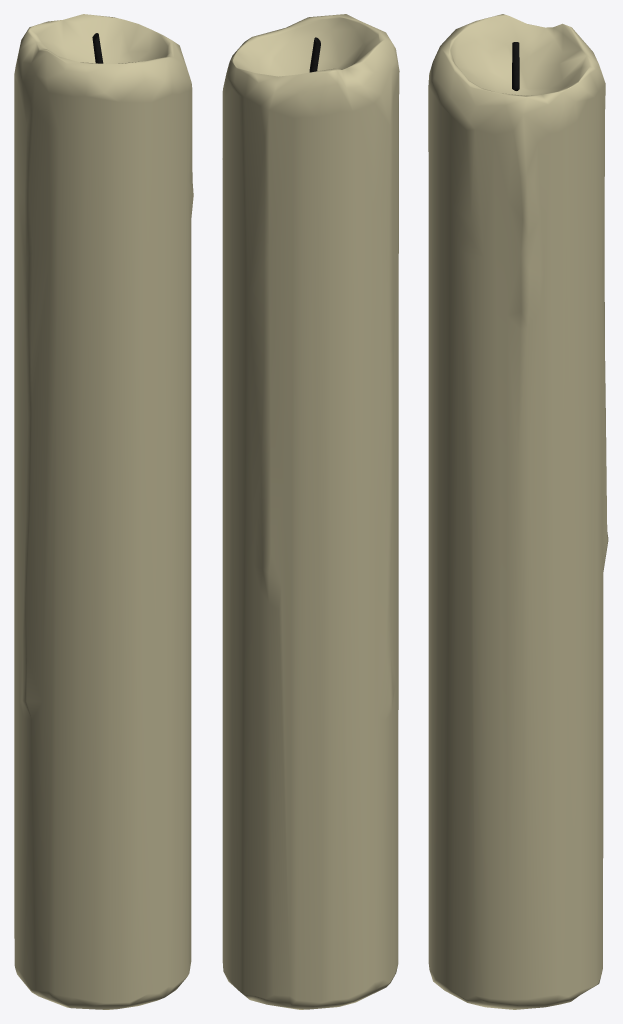
File: SM_Candle.fbx
The picture shows the model from 3 angles, left to right: view 1: azimuth 30°, elevation 25°; view 2: azimuth 150°, elevation 25°; view 3: azimuth 270°, elevation 25°; orthographic projection.
Parts seen in each view (by area): view 1: SM_Candle_LOD0; view 2: SM_Candle_LOD0; view 3: SM_Candle_LOD0.
Part boxes in pixels (x1=…): SM_Candle_LOD0: x1=14, y1=14, x2=193, y2=1009; SM_Candle_LOD0: x1=222, y1=14, x2=399, y2=1009; SM_Candle_LOD0: x1=428, y1=14, x2=608, y2=1009.
Bounding box in the file's own units: 3.36 × 3.26 × 18.68.
1 material, 1 textured.
